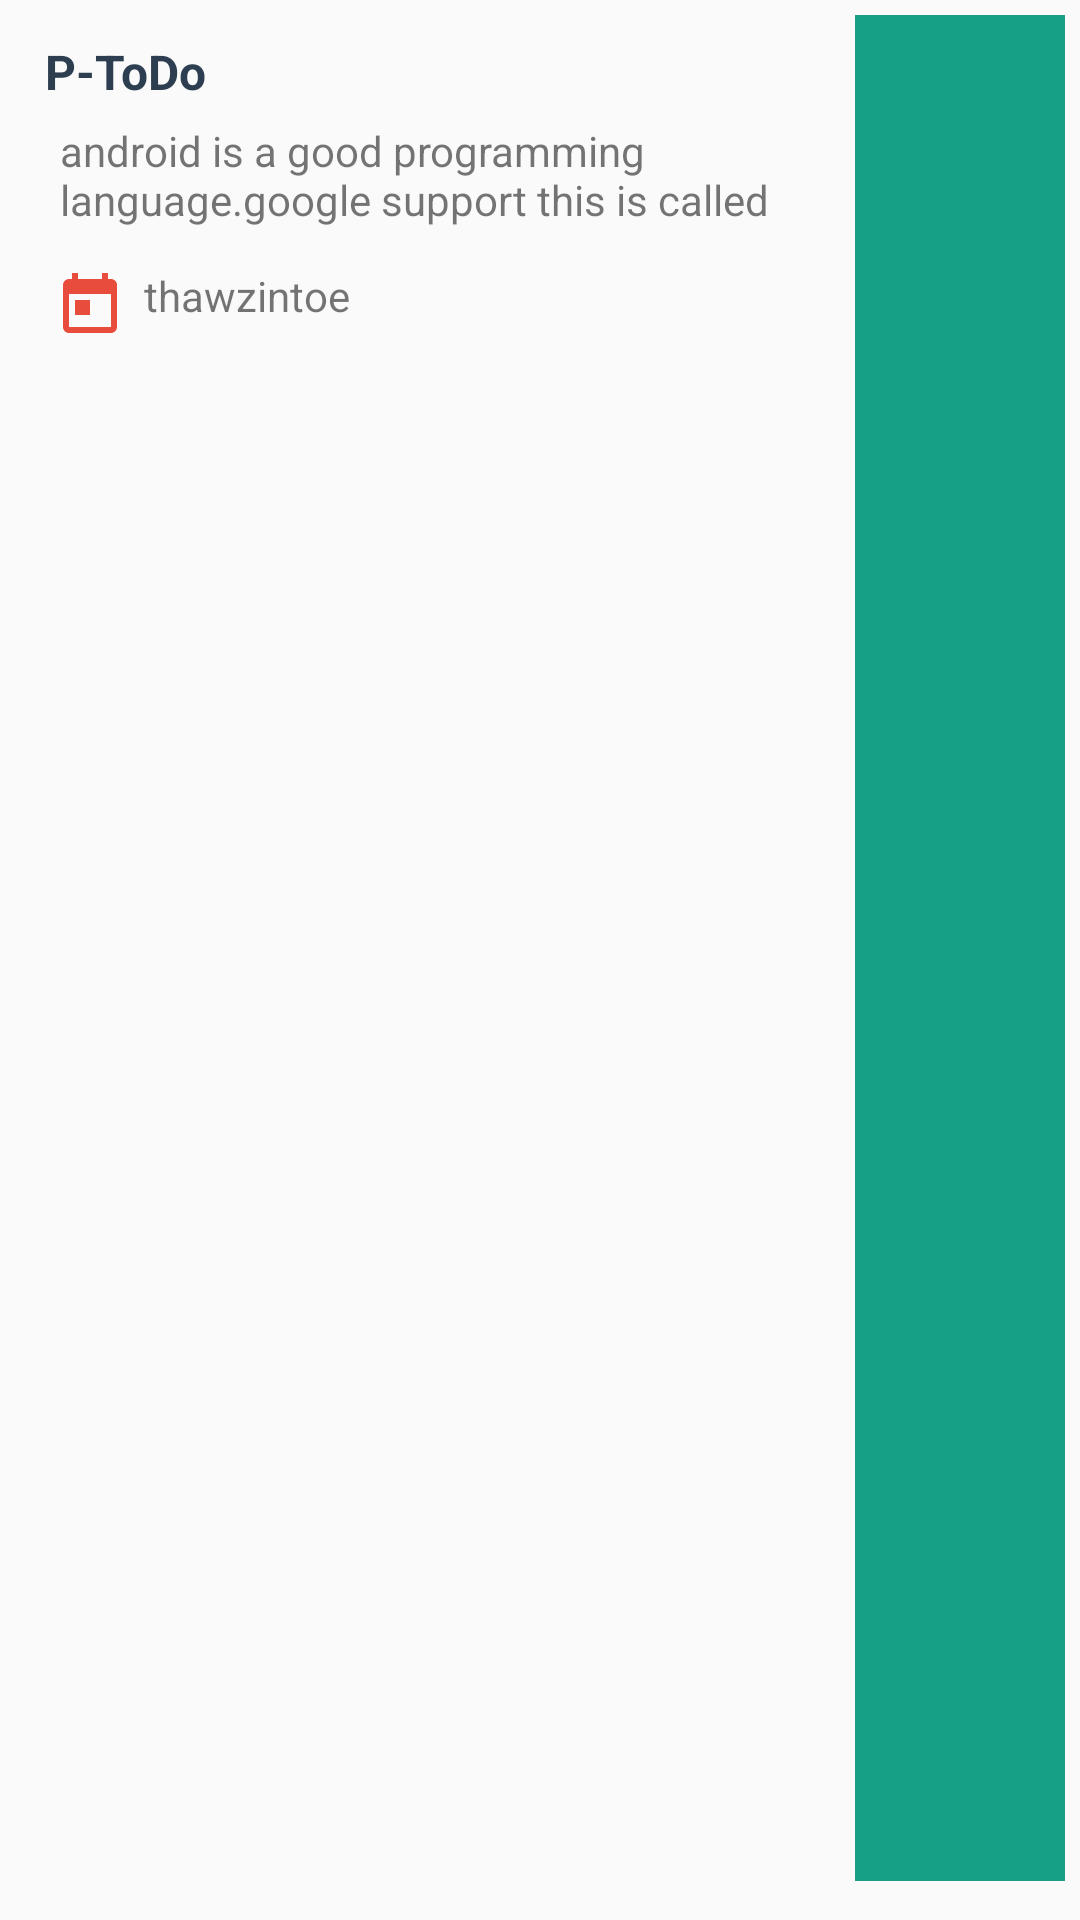

Point at icon controls on the screen. Image size 1080 × 1920, points as point (x, y).
date: point (90, 303)
